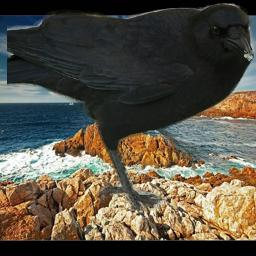Crow: (7, 3, 255, 211)
